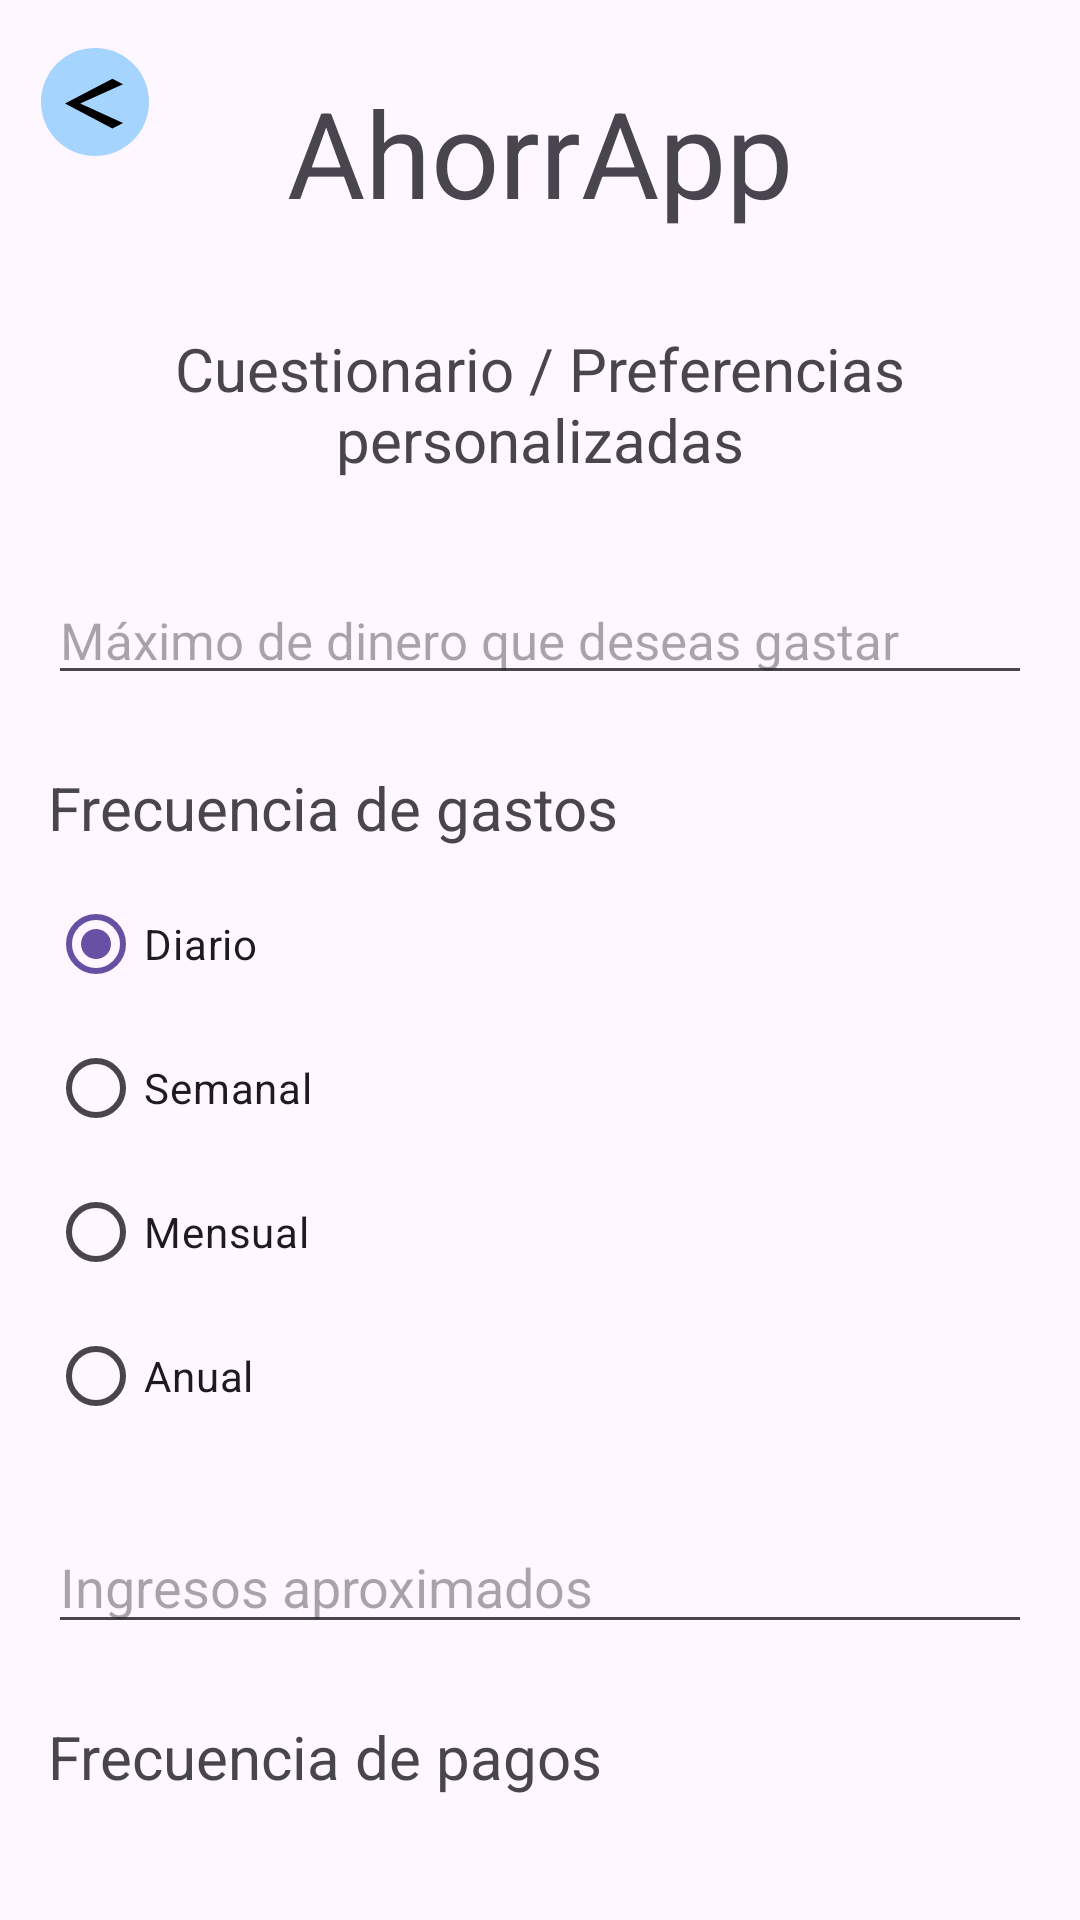

Screen size 1080x1920. Icon name, then its center in pixels as point (x, y):
arrow back: point (95, 102)
